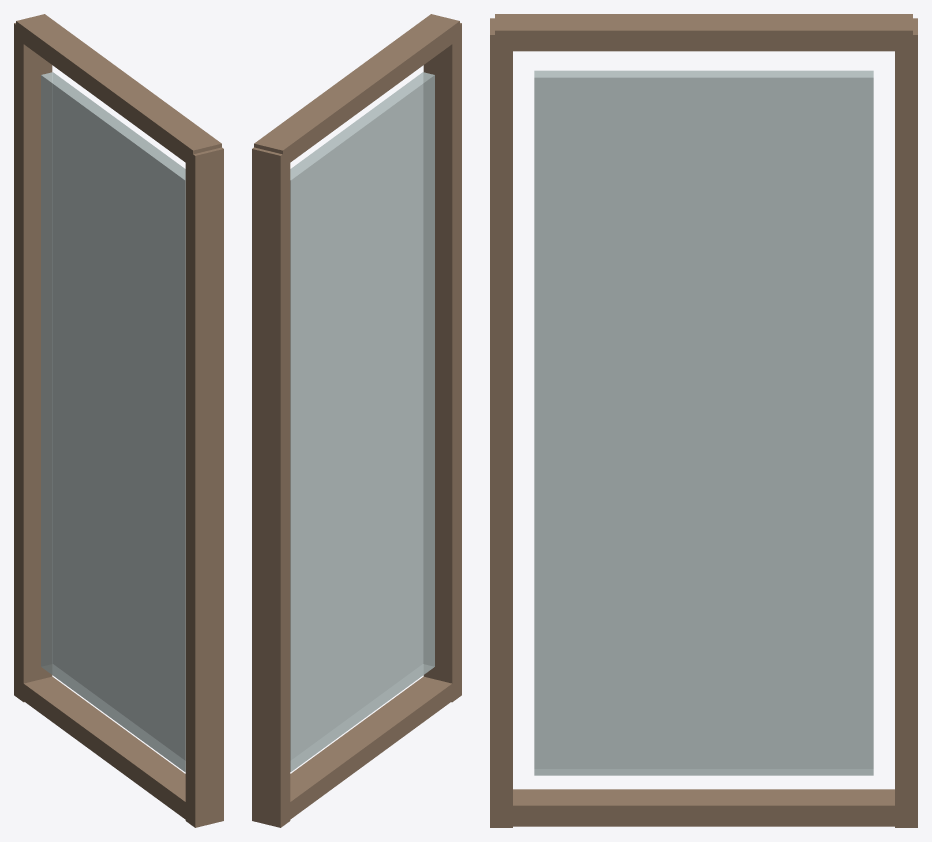
File: full_height_mirror.glb
3 views of the same model, side by side, from view 1: azimuth 30°, elevation 25°; view 2: azimuth 150°, elevation 25°; view 3: azimuth 270°, elevation 25° (orthographic). The views are drawn at different scales.
Visible parts, largest first — view 1: mirror_glass, mirror_right_frame, mirror_left_frame, mirror_top_frame, mirror_bottom_frame; view 2: mirror_glass, mirror_left_frame, mirror_right_frame, mirror_top_frame, mirror_bottom_frame; view 3: mirror_glass, mirror_right_frame, mirror_left_frame, mirror_top_frame, mirror_bottom_frame.
Part boxes in pixels (<box>): mirror_glass: <box>41,72,185,771</box>; mirror_right_frame: <box>185,147,223,827</box>; mirror_left_frame: <box>14,23,52,702</box>; mirror_top_frame: <box>16,14,221,162</box>; mirror_bottom_frame: <box>16,676,192,819</box>; mirror_glass: <box>290,72,434,771</box>; mirror_left_frame: <box>252,147,290,827</box>; mirror_right_frame: <box>423,23,461,702</box>; mirror_top_frame: <box>254,14,459,162</box>; mirror_bottom_frame: <box>283,676,459,824</box>; mirror_glass: <box>534,70,873,775</box>; mirror_right_frame: <box>490,18,512,827</box>; mirror_left_frame: <box>895,18,917,827</box>; mirror_top_frame: <box>495,14,912,51</box>; mirror_bottom_frame: <box>495,789,912,826</box>.
Size of the model in its own units: 0.06 by 1.35 by 0.655.
